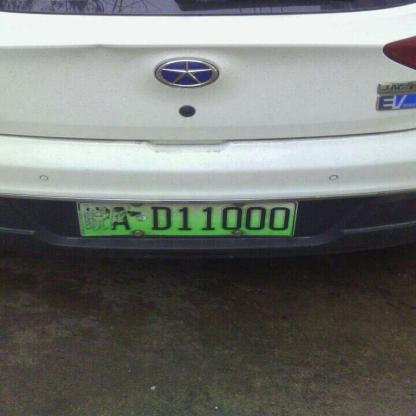lp: (78, 202, 295, 235)
